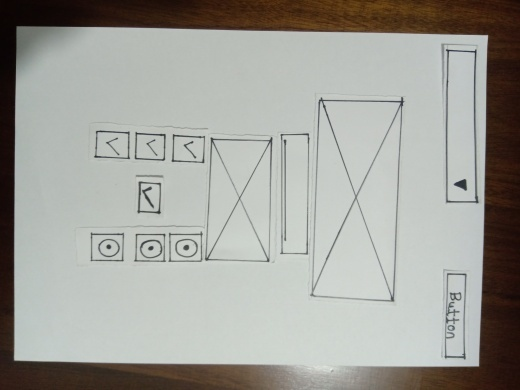button: (445, 275, 466, 356)
checkbox: (133, 131, 165, 162), (138, 179, 160, 216), (174, 135, 204, 161), (97, 133, 127, 159)
dropdown: (444, 50, 476, 203)
img: (312, 99, 406, 300), (209, 139, 271, 263)
radio: (135, 231, 166, 263), (170, 235, 202, 263), (91, 234, 123, 262)
text: (281, 134, 309, 256)
